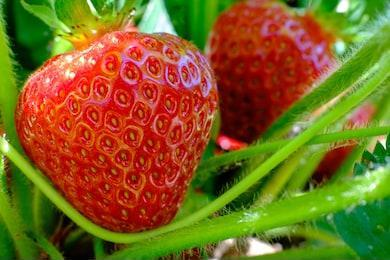Fresa: (13, 22, 222, 240)
